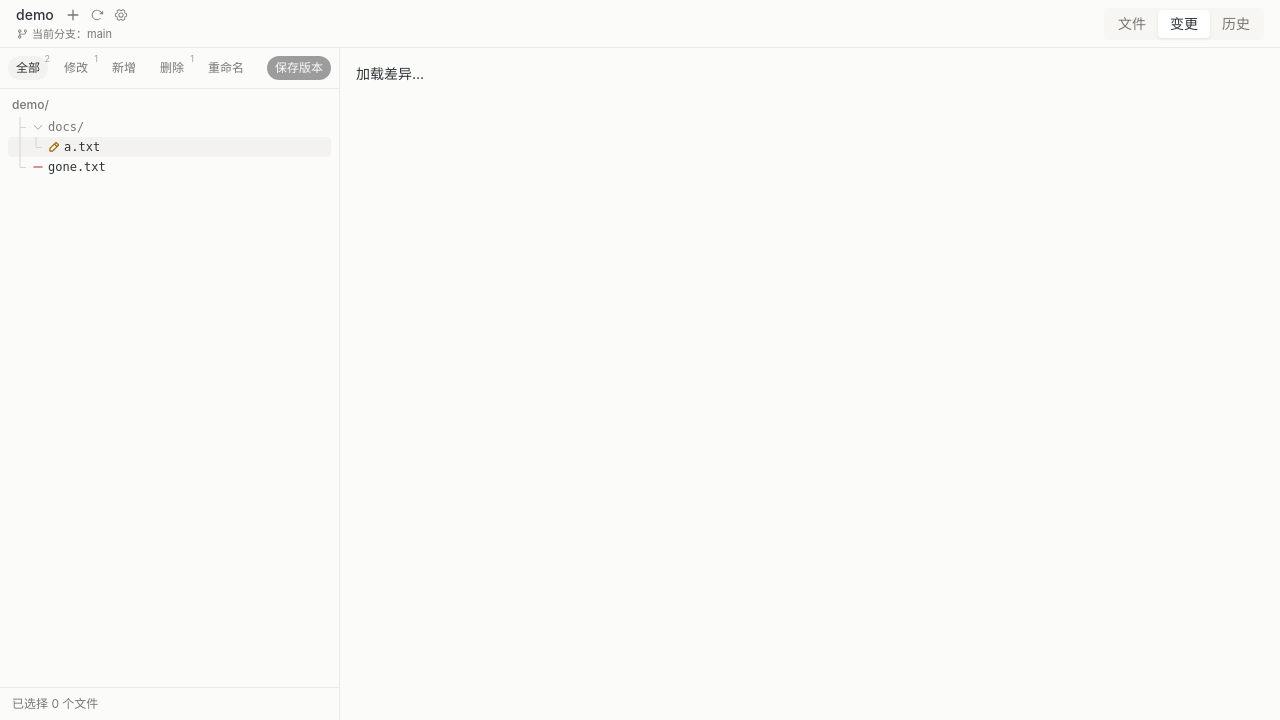
it: ProjectPage sidebar context menus › hides reveal for deleted change files
The width and height of the screenshot is (1280, 720).
Right-click the button titled "删除 · gone.txt" at (77, 167), box x1=32 y1=159 x2=310 y2=175
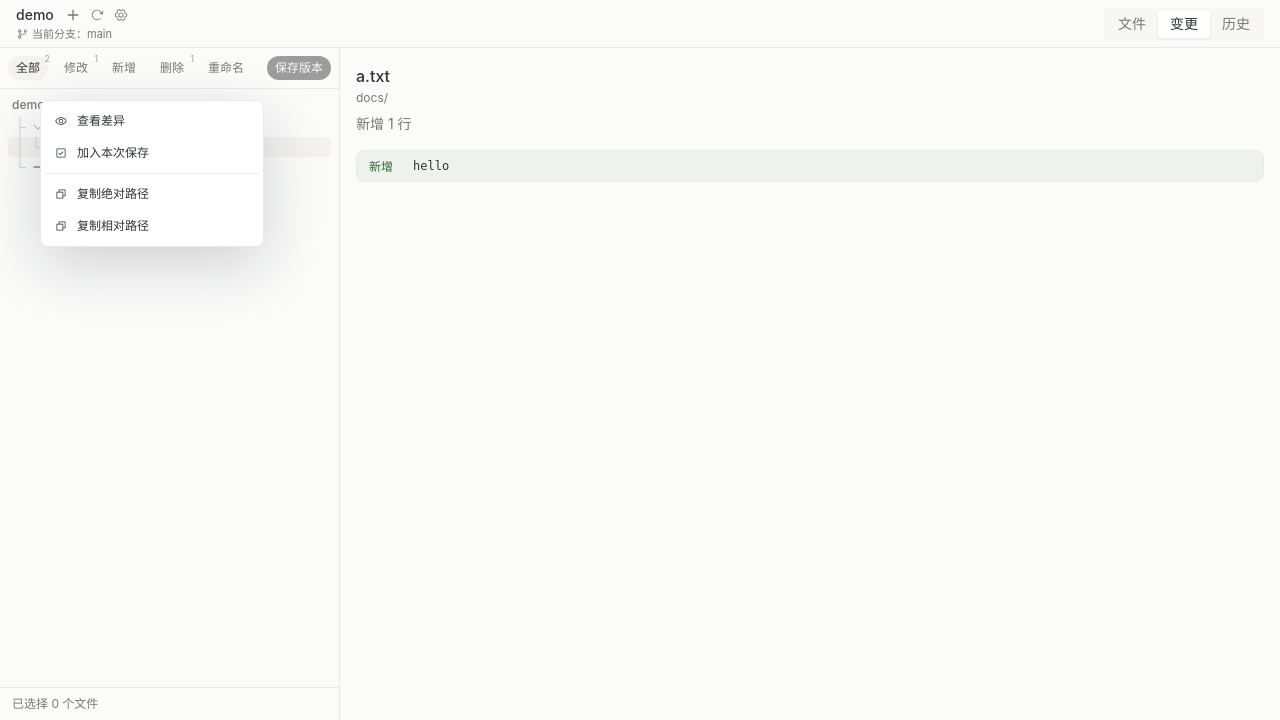
expect the menu item "查看差异" is shown: met, box x1=45 y1=105 x2=259 y2=137
